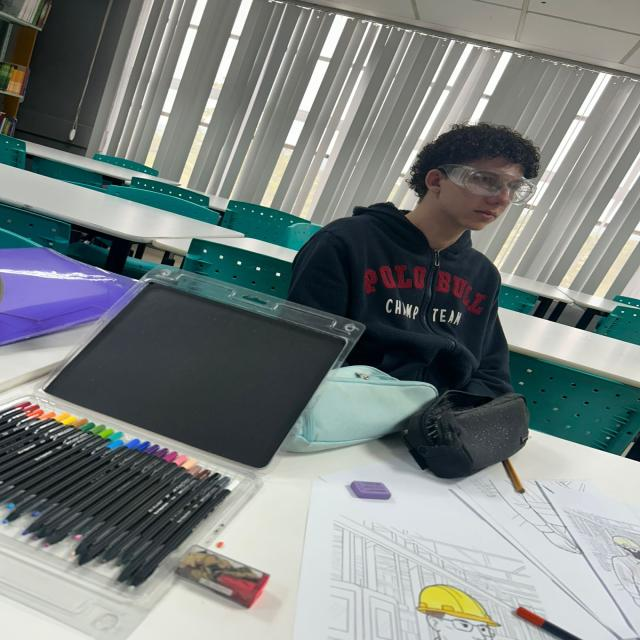oculos-epi: (441, 165, 537, 205)
